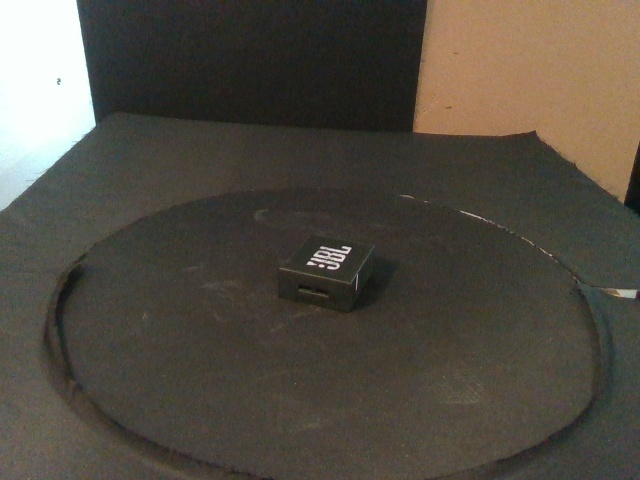speaker: (276, 233, 377, 313)
